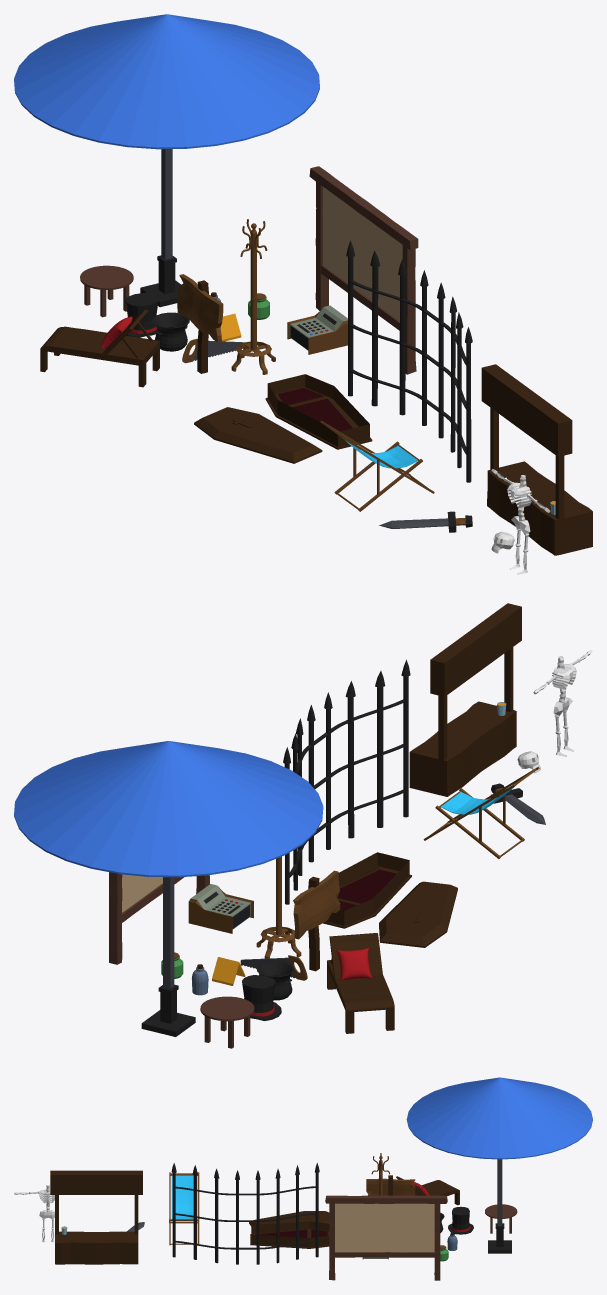
The model's file is Expansion3.fbx.
3 renders of one model, top to bottom at view 1: azimuth 30°, elevation 25°; view 2: azimuth 150°, elevation 25°; view 3: azimuth 270°, elevation 25°, orthographic. The views are drawn at different scales.
Visible parts, largest first — view 1: Sonnenschirm, Cube.003, Tafel, SargOffen, GitterTor, Sonnenliege, Schild, Kasse, Liegestuhl, KleiderStänder, Tischchen, Seth.002 (+3 smaller); view 2: Sonnenschirm, Cube.003, SargOffen, GitterTor, Sonnenliege, Tafel, Schild, Kasse, Liegestuhl, Tischchen, Seth.002, Zylinder (+5 smaller); view 3: Sonnenschirm, Tafel, Cube.003, GitterTor, SargOffen, Liegestuhl, Schild, Sonnenliege, Zylinder, Seth.002, Tischchen.
Part boxes in pixels (bbox=[...]): Sonnenschirm: bbox=[14, 14, 319, 307]; Cube.003: bbox=[481, 364, 592, 555]; Tafel: bbox=[309, 166, 418, 374]; SargOffen: bbox=[194, 374, 372, 463]; GitterTor: bbox=[346, 240, 472, 482]; Sonnenliege: bbox=[40, 309, 159, 387]; Schild: bbox=[177, 274, 223, 373]; Kasse: bbox=[287, 305, 347, 354]; Liegestuhl: bbox=[320, 420, 434, 511]; KleiderStänder: bbox=[231, 219, 275, 374]; Tischchen: bbox=[80, 265, 133, 317]; Seth.002: bbox=[491, 469, 550, 574]; Sonnenschirm: bbox=[14, 741, 323, 1036]; Cube.003: bbox=[409, 603, 521, 796]; SargOffen: bbox=[323, 852, 457, 947]; GitterTor: bbox=[283, 659, 410, 904]; Sonnenliege: bbox=[327, 933, 394, 1033]; Tafel: bbox=[109, 872, 209, 964]; Schild: bbox=[293, 870, 340, 971]; Kasse: bbox=[188, 884, 253, 933]; Liegestuhl: bbox=[423, 766, 539, 858]; Tischchen: bbox=[200, 996, 254, 1048]; Seth.002: bbox=[533, 650, 592, 756]; Zylinder: bbox=[242, 975, 281, 1020]; Sonnenschirm: bbox=[406, 1077, 592, 1253]; Tafel: bbox=[325, 1195, 447, 1280]; Cube.003: bbox=[50, 1170, 142, 1264]; GitterTor: bbox=[171, 1163, 319, 1264]; SargOffen: bbox=[249, 1211, 329, 1248]; Liegestuhl: bbox=[169, 1172, 199, 1245]; Schild: bbox=[366, 1175, 415, 1195]; Sonnenliege: bbox=[396, 1176, 459, 1205]; Zylinder: bbox=[448, 1206, 473, 1234]; Seth.002: bbox=[14, 1185, 54, 1242]; Tischchen: bbox=[485, 1204, 517, 1233].
Bounding box in the file's own units: 520 × 456 × 1393.
